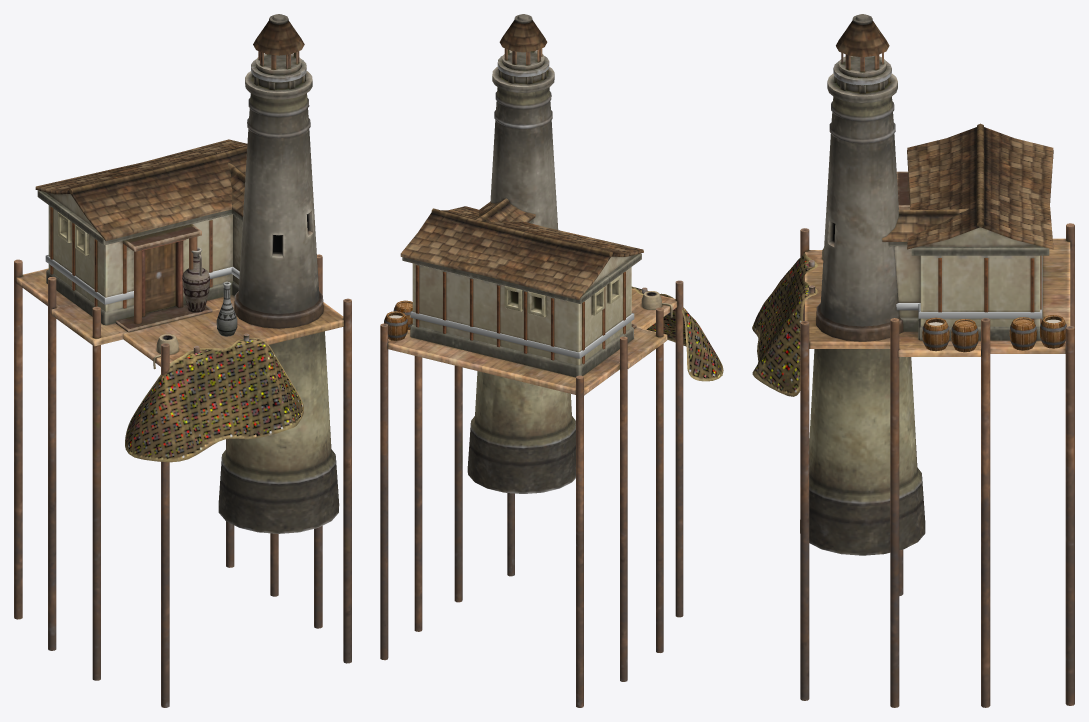
File: 46-dock.glb
3 views of the same model, side by side, from view 1: azimuth 30°, elevation 25°; view 2: azimuth 150°, elevation 25°; view 3: azimuth 270°, elevation 25° (orthographic). The views are drawn at different scales.
Size of the model in its own units: 6.62 by 16.34 by 7.22.
6 materials, 4 textured.
